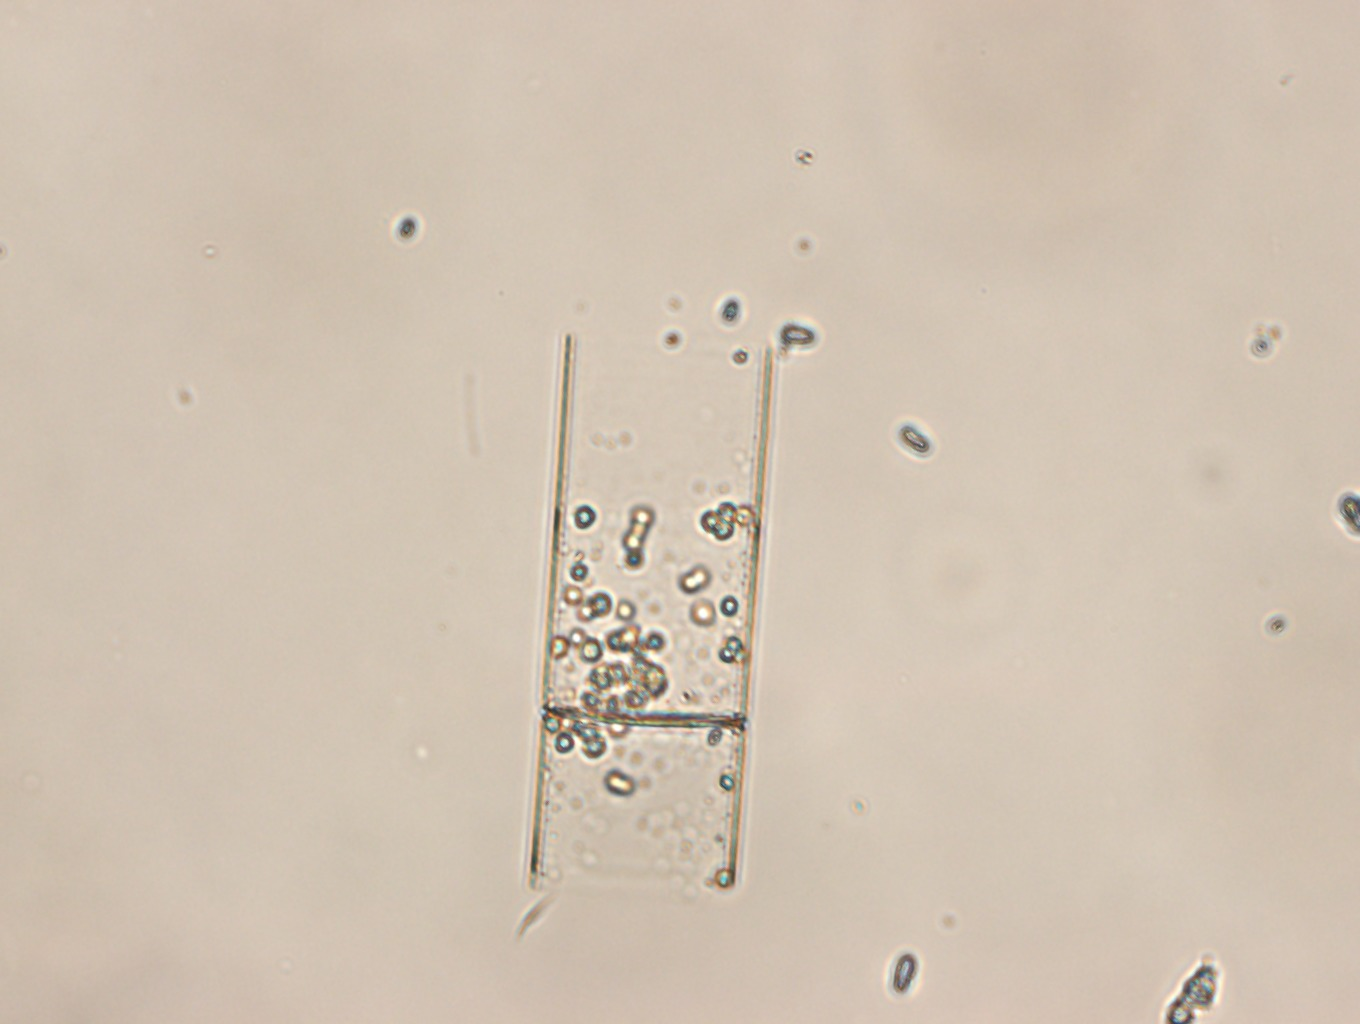guinardia flaccida: (529, 343, 774, 885)
